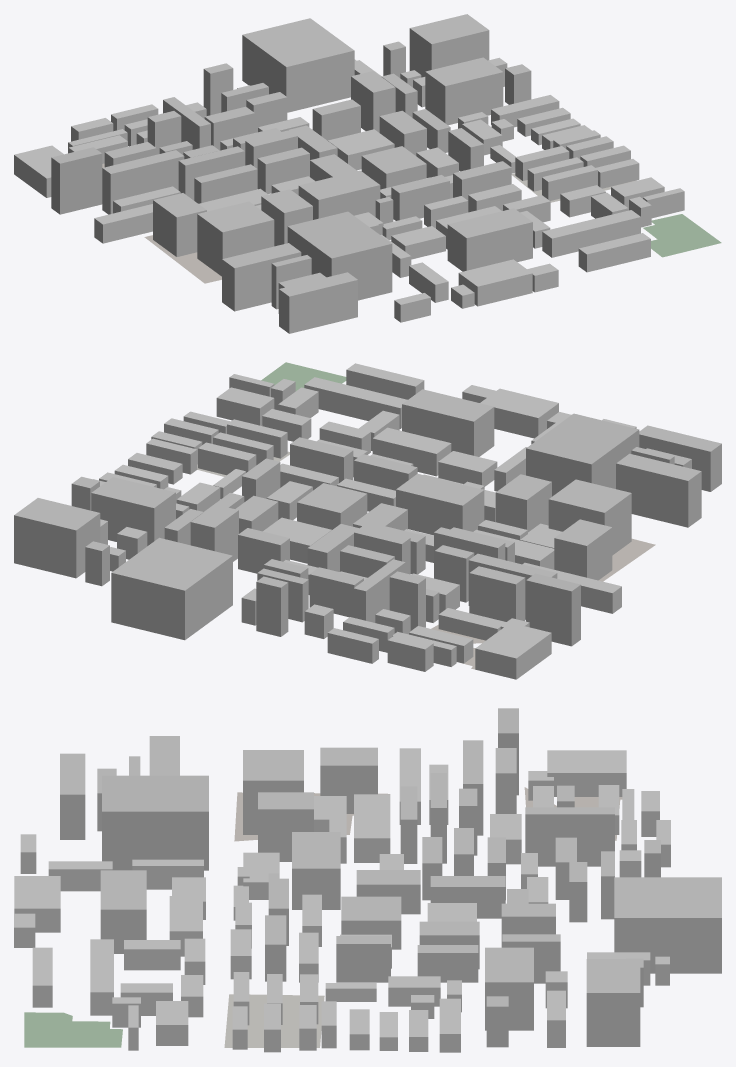
The model's file is 120_94_mid.glb.
3 views of the same model, one above another, from view 1: azimuth 30°, elevation 25°; view 2: azimuth 150°, elevation 25°; view 3: azimuth 270°, elevation 25° (orthographic). The views are drawn at different scales.
Bounding box in the file's own units: 523 × 53.89 × 554.
